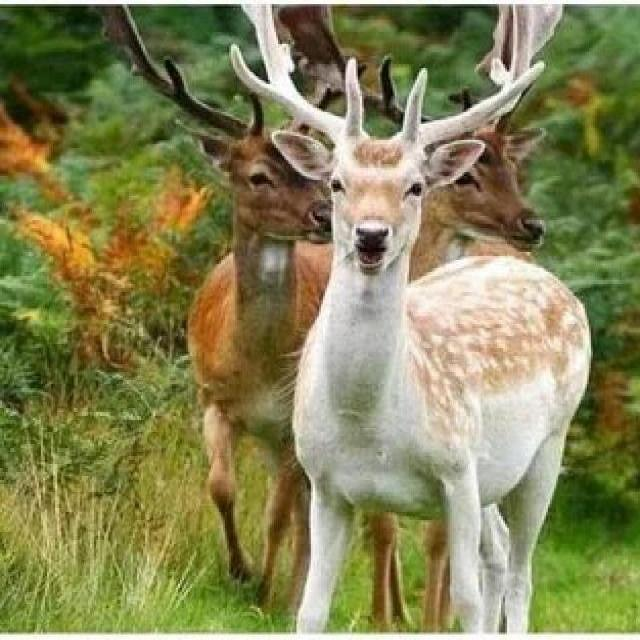deer: (242, 84, 640, 640), (131, 63, 398, 542), (332, 58, 584, 374)
